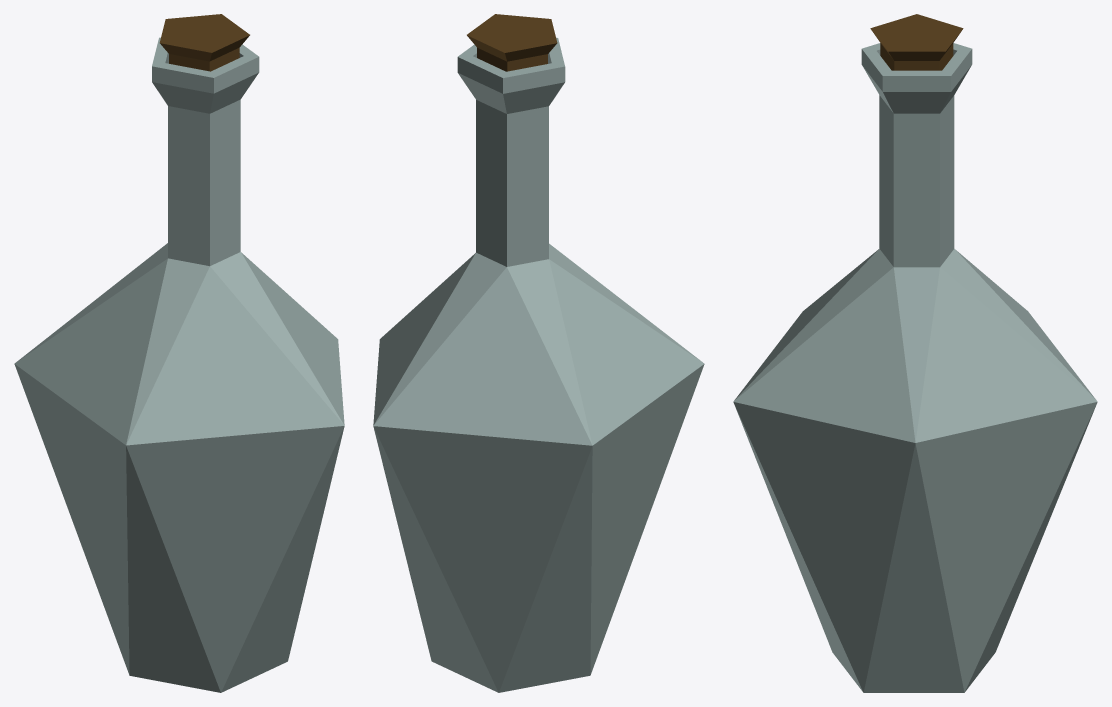
File: potion3.fbx
The picture shows the model from 3 angles, left to right: view 1: azimuth 30°, elevation 25°; view 2: azimuth 150°, elevation 25°; view 3: azimuth 270°, elevation 25°; orthographic projection.
Visible parts, largest first — view 1: Icosphere.004; view 2: Icosphere.004; view 3: Icosphere.004.
Boxes of the visible parts, bbox=[...] form: Icosphere.004: bbox=[14, 14, 344, 692]; Icosphere.004: bbox=[373, 14, 704, 692]; Icosphere.004: bbox=[733, 14, 1097, 692].
Size of the model in its own units: 38.93 by 86.61 by 45.49.
